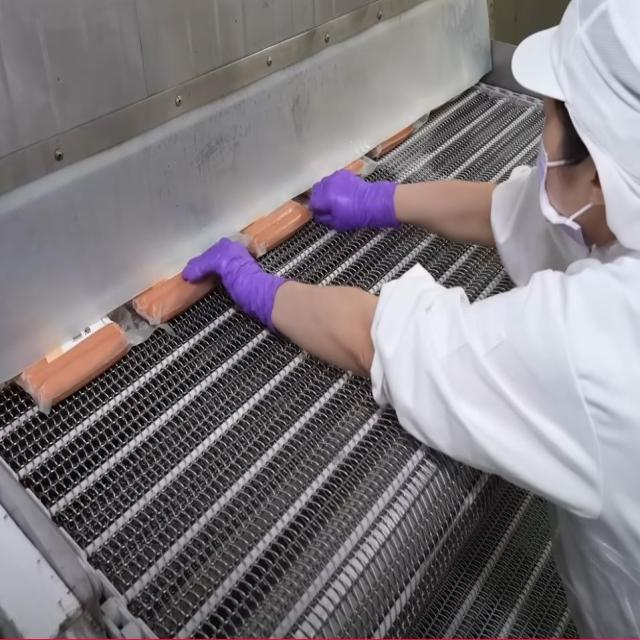gloved_hand: (179, 236, 287, 332), (305, 165, 403, 239)
